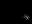person: (23, 14, 30, 21)
